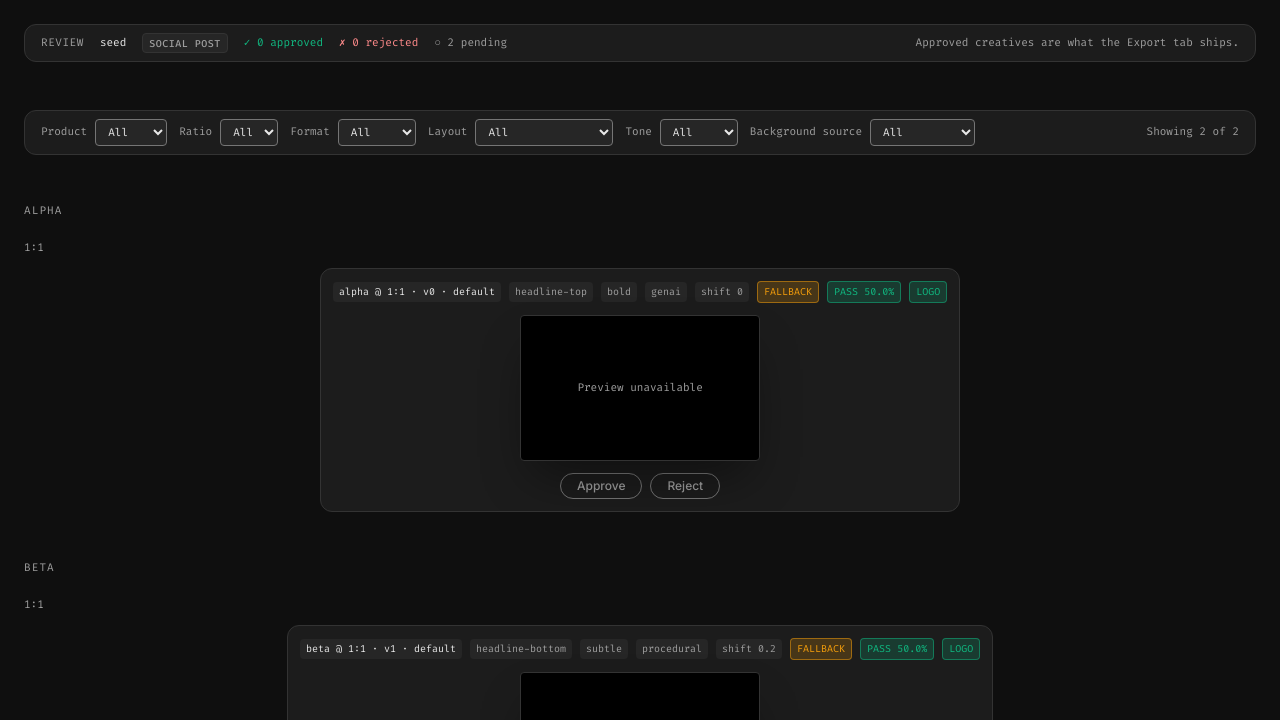
Test: GridPage › tone and background filters reduce the visible set
Check: the text "Showing 2 of 2" is shown, box [1147,124,1239,141]
Select "subtle" in the dropdown labelled "Tone". click: [699, 132]
box: [660,119,738,146]
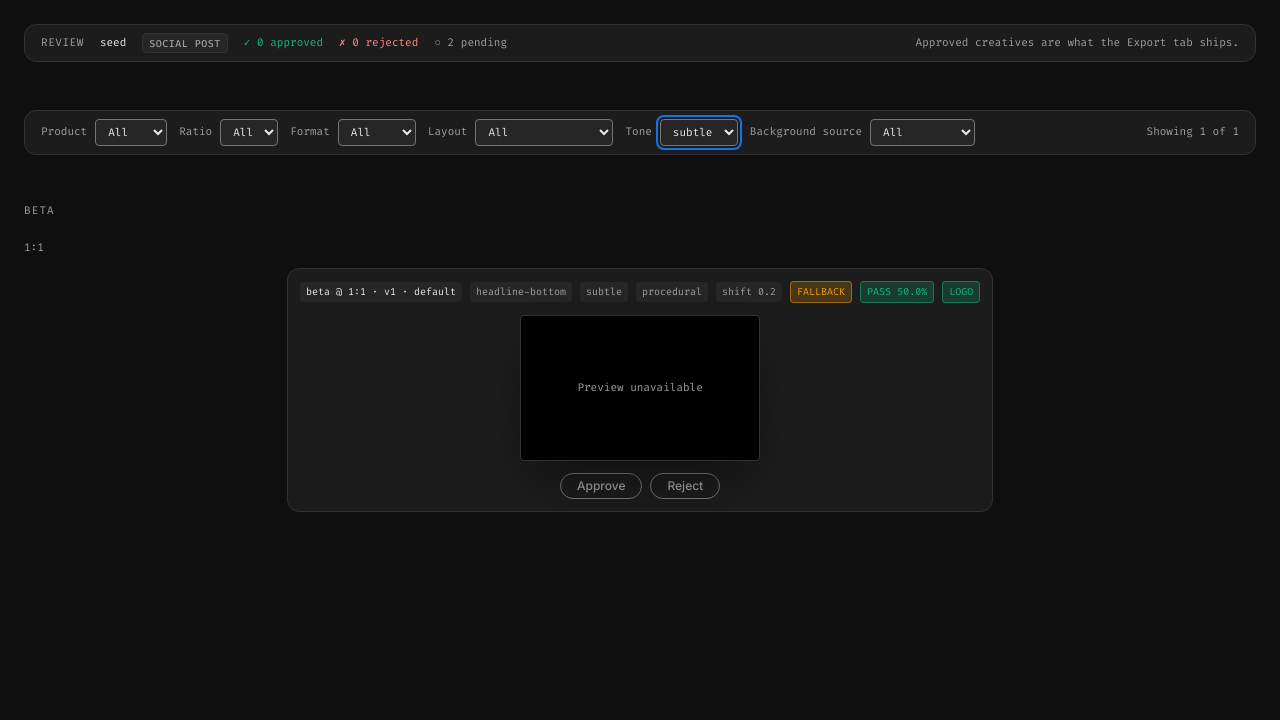
Check: the text "Showing 1 of 1" is shown, box [1147,124,1239,141]
Select "All" in the dropdown labelled "Tone". click: [699, 132]
box: [660,119,738,146]
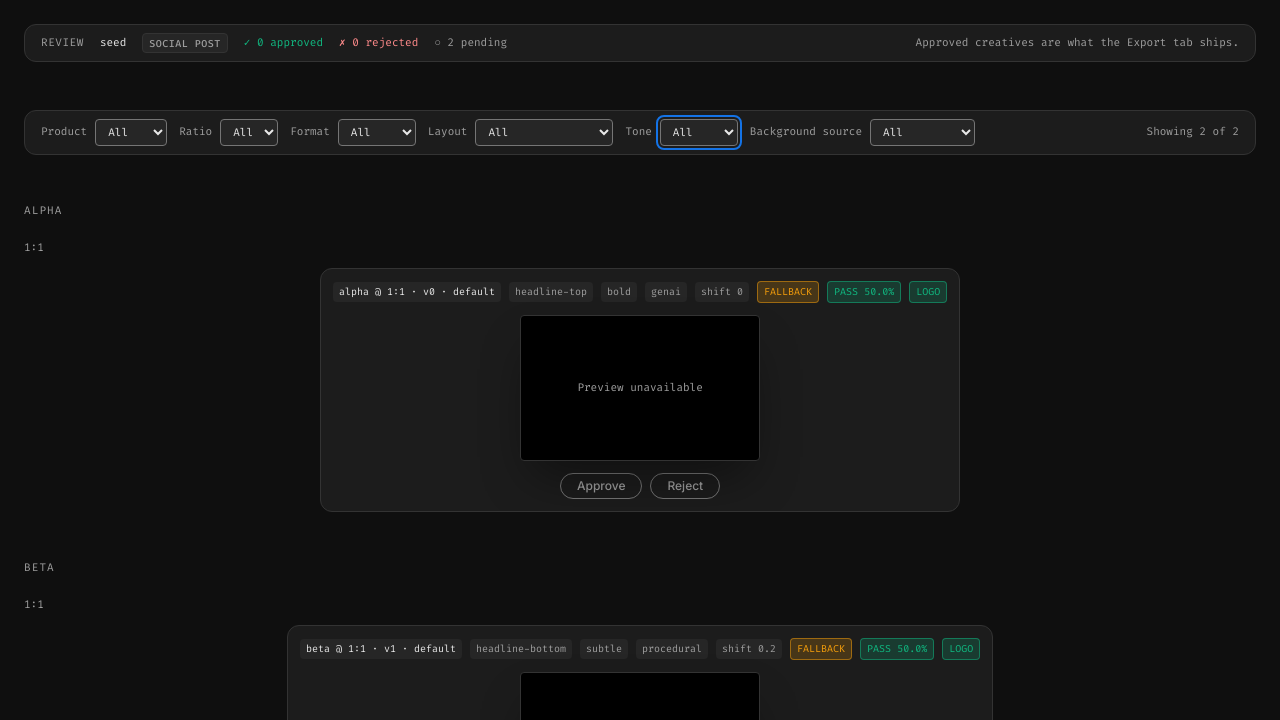
Select "genai" in the dropdown labelled "Background source". click: [922, 132]
box: [870,119,975,146]
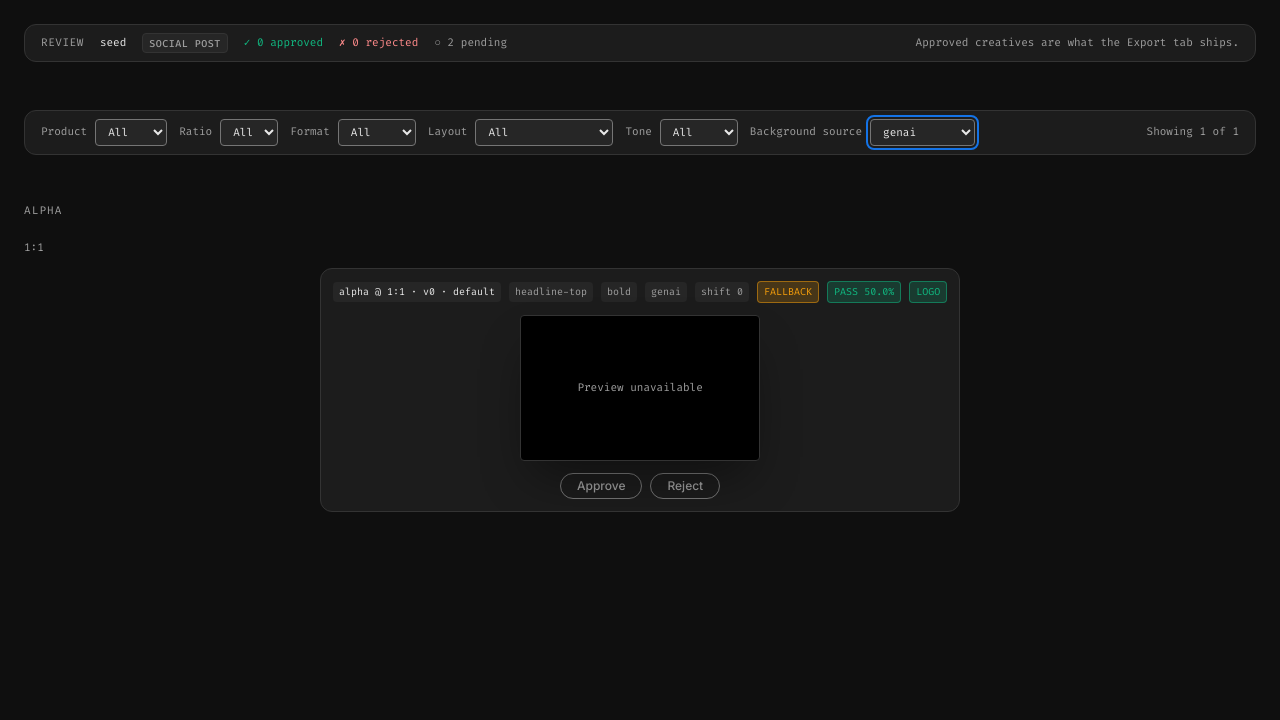
Check: the text "Showing 1 of 1" is shown, box [1147,124,1239,141]
